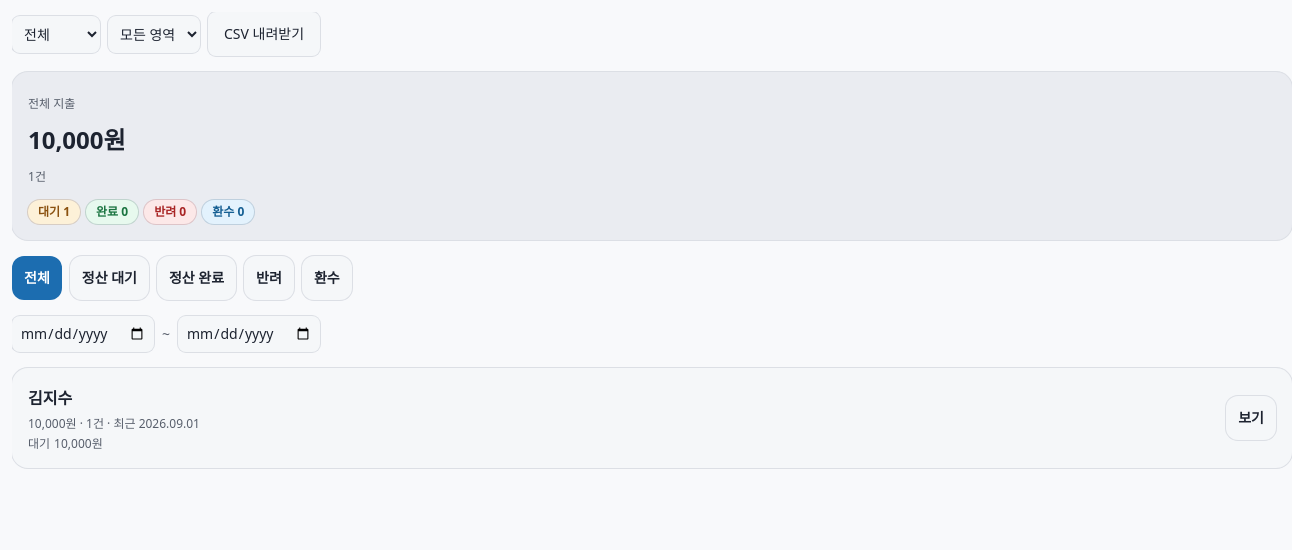
Scenario: P7-C emptystate.render — OrgLedger 필터0 description (filterzero-orgledger) › [GREEN-lock] EmptyState 채택이 유지된다 (필터로 0건이 되면 빈상태가 뜬다)
'pending' 한 건만 있는데 '반려'로 거르면 0건 → 필터0 빈상태.
Click the button "반려": (269, 278) [244,256,294,300]
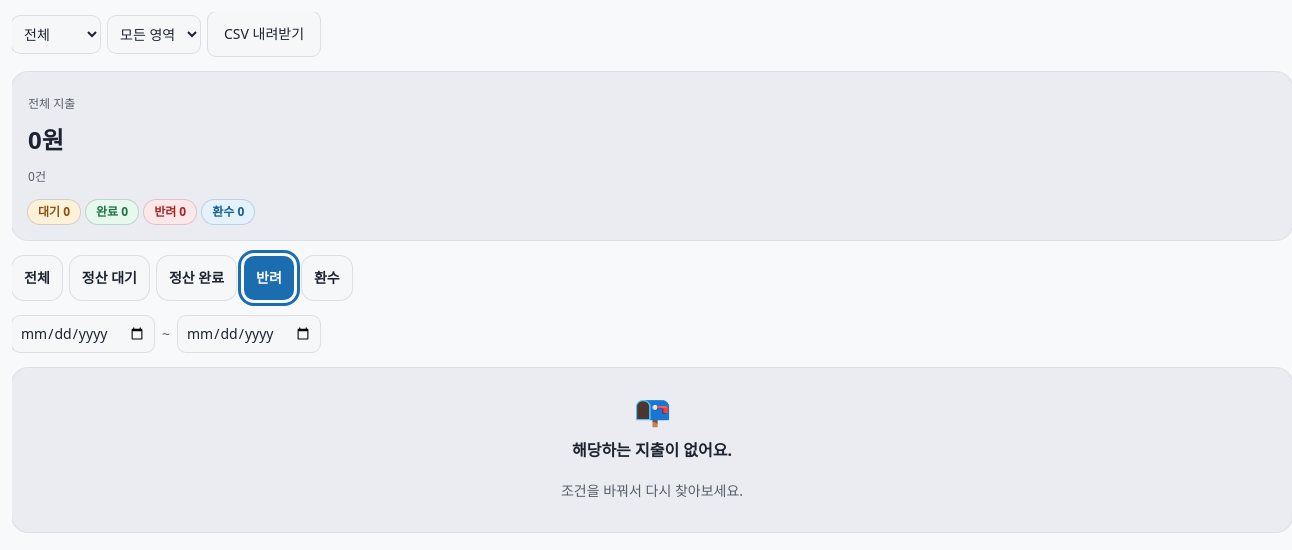
Result: the text "해당하는 지출이 없어요." is shown at [572,436,732,466]
